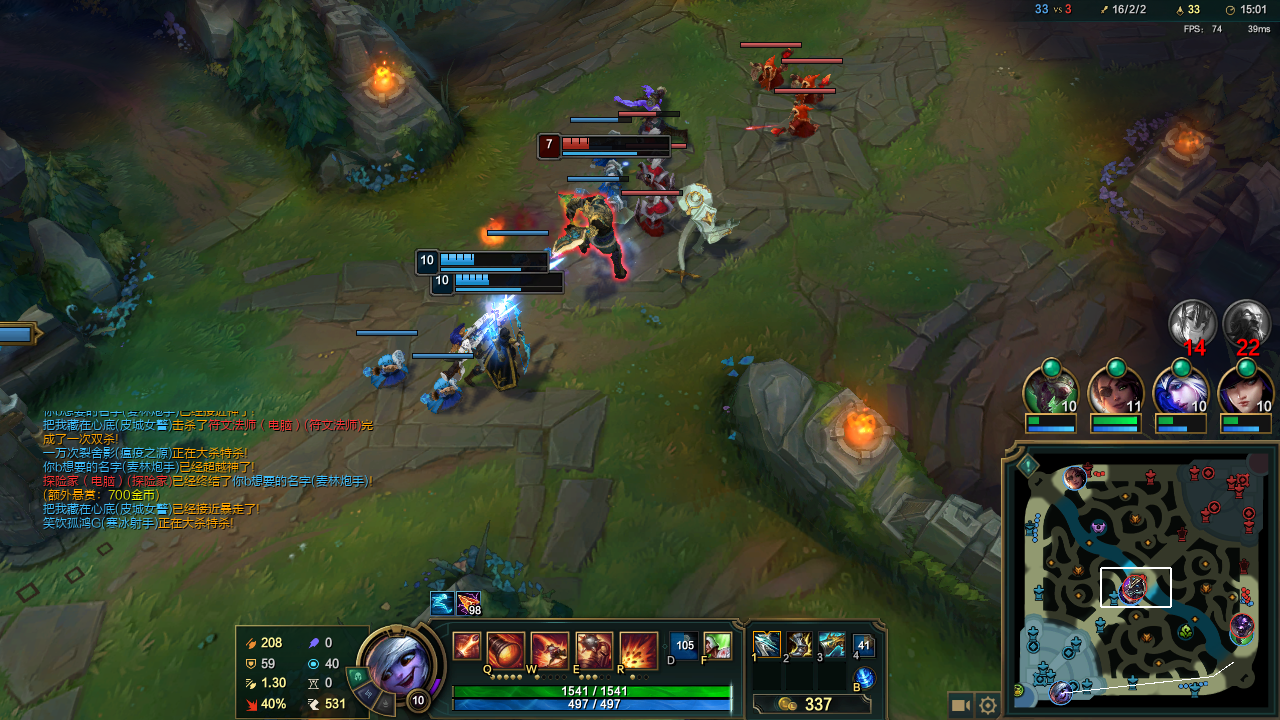DFXB: (636, 198, 683, 243), (780, 101, 827, 144), (750, 53, 798, 94), (640, 159, 680, 194), (788, 69, 832, 100)
DFYX: (563, 135, 634, 154)
WFXB: (414, 374, 466, 418), (364, 351, 416, 391), (597, 166, 628, 195)
